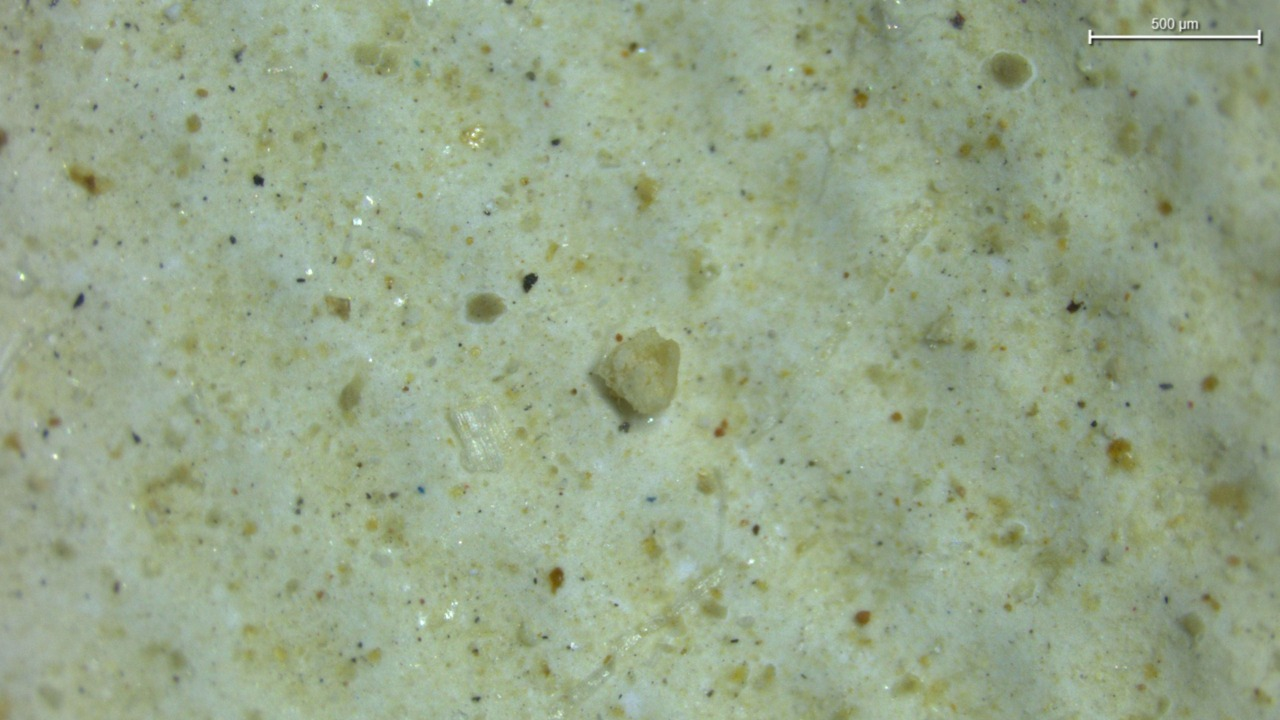microplastic_fragment: (595, 328, 680, 414)
